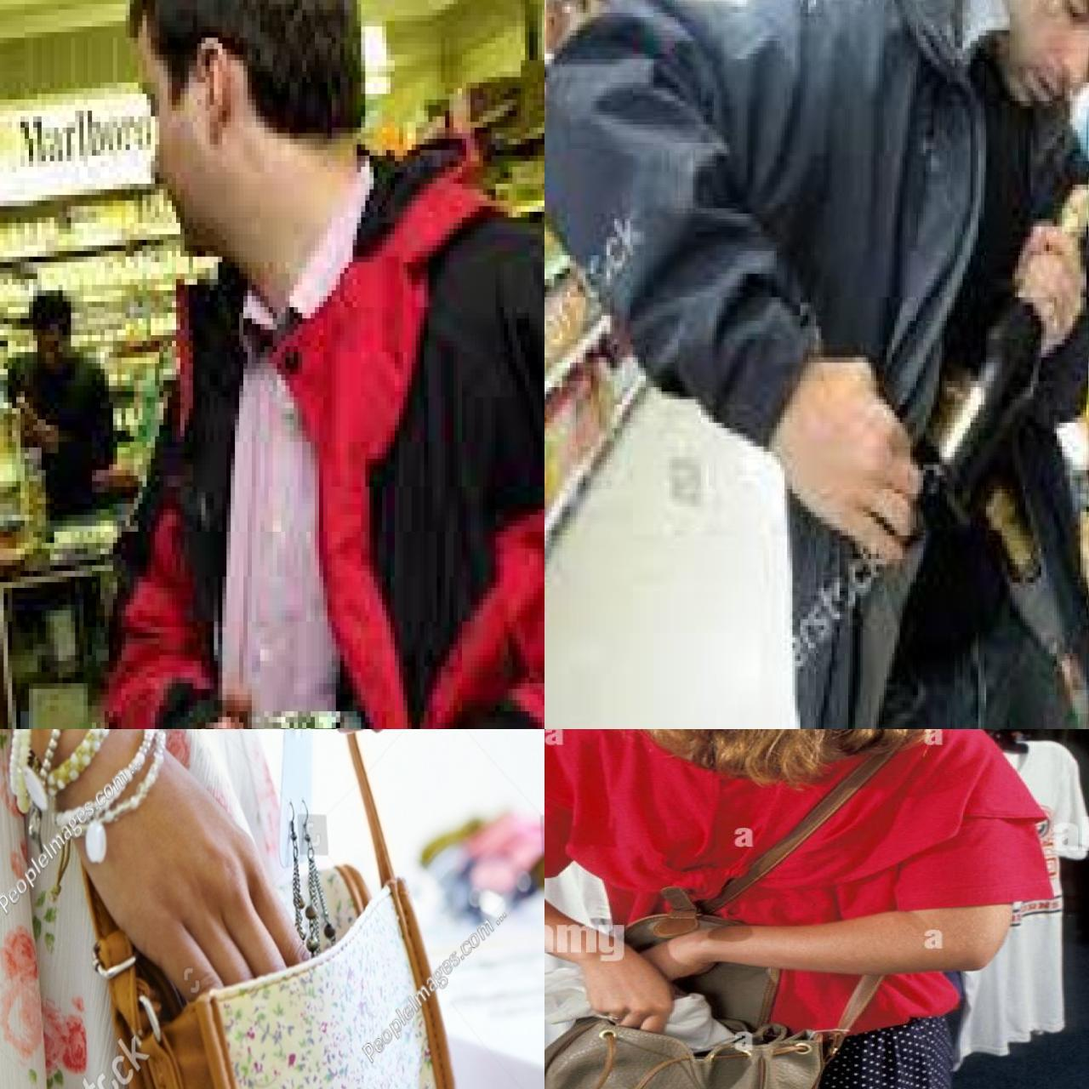shoplifting: (580, 111, 1089, 717), (0, 732, 536, 1086), (553, 750, 1089, 1089)
